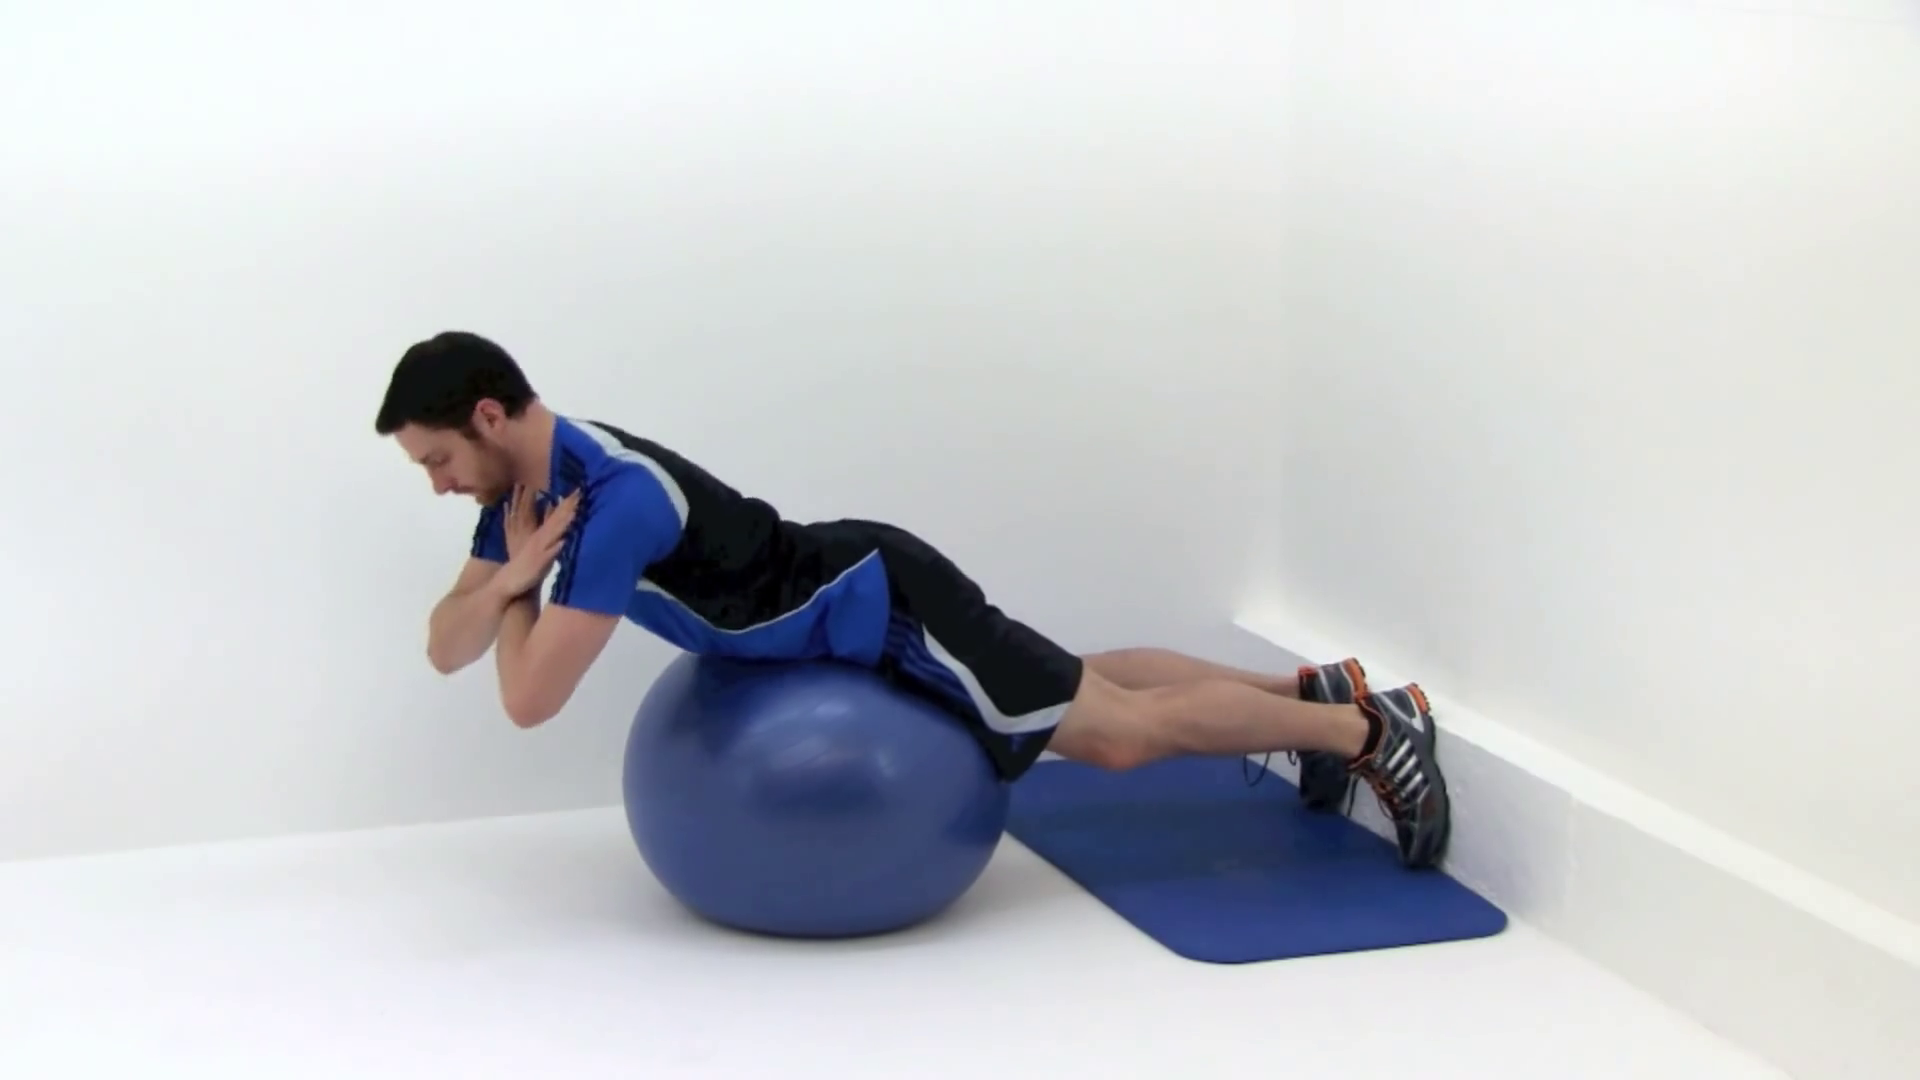yogaball: (603, 636, 1035, 960)
